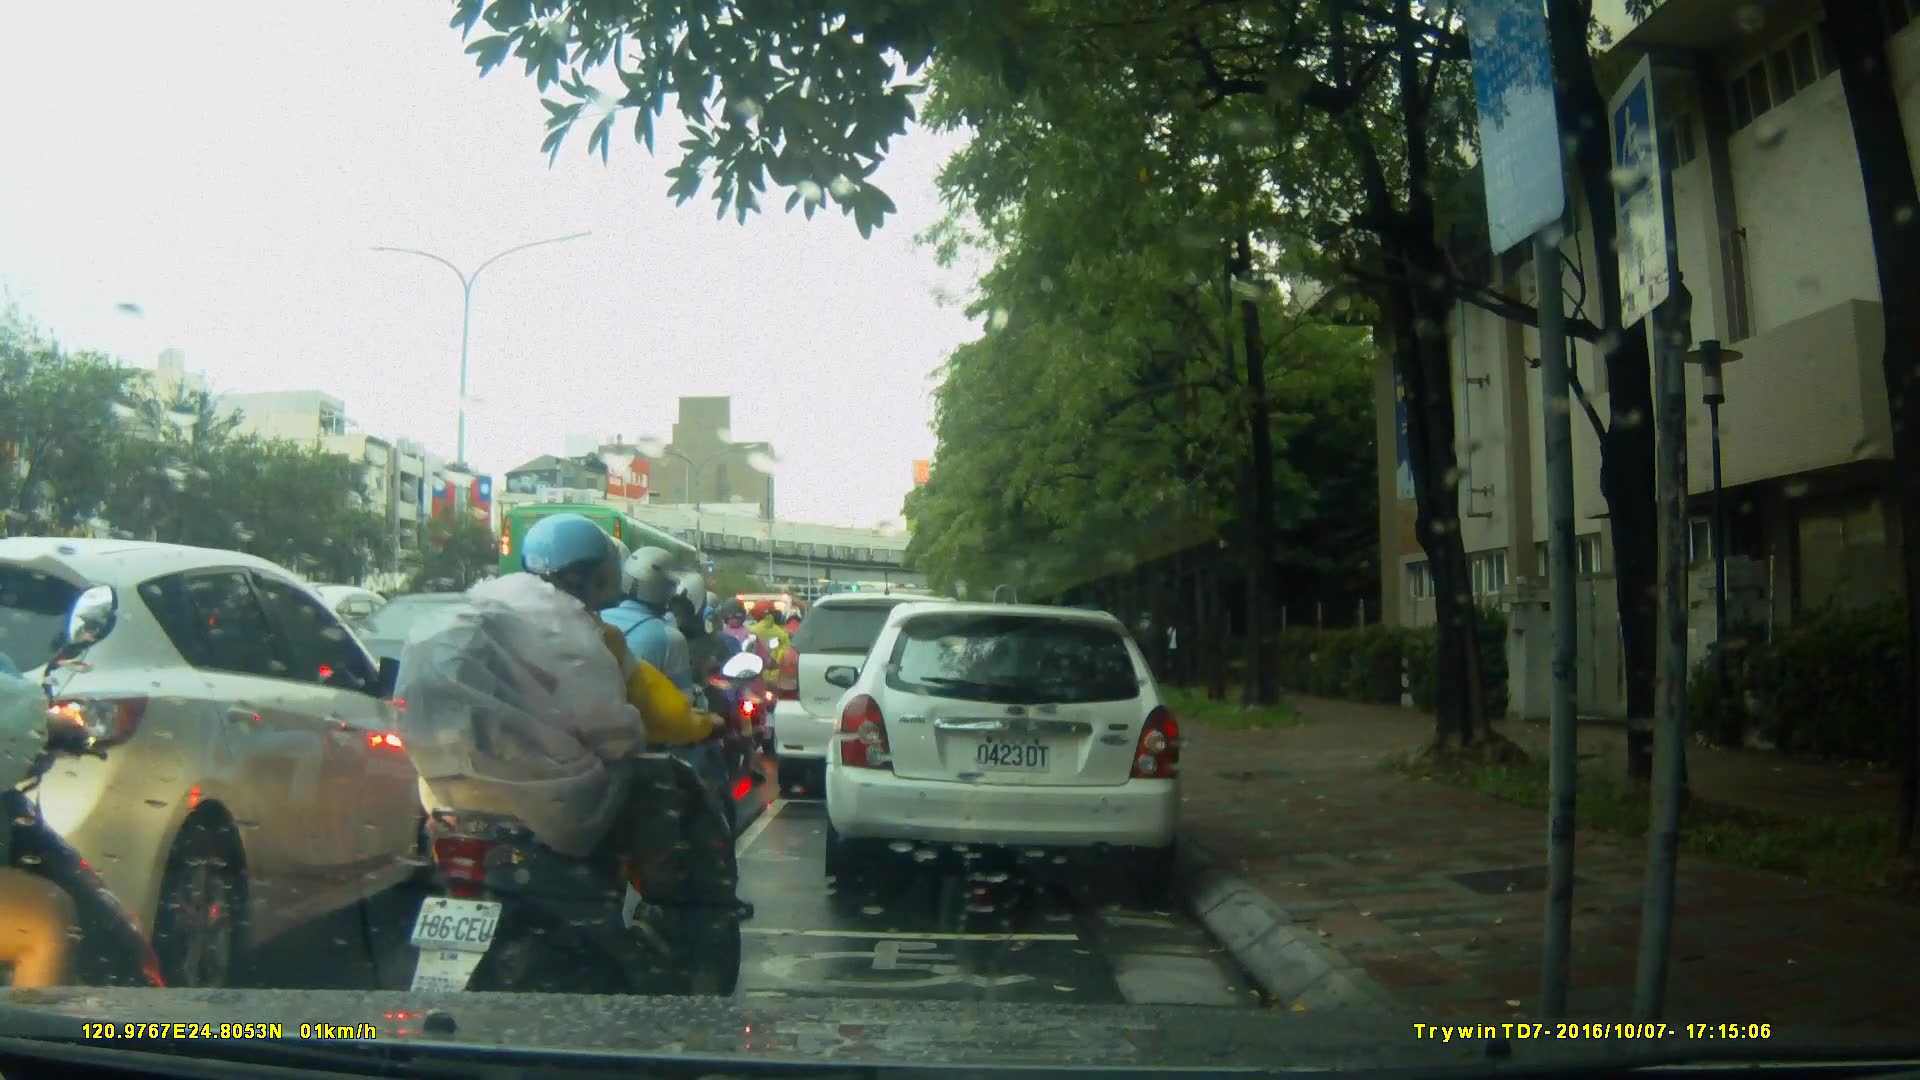rider: (398, 513, 769, 1056), (1, 410, 178, 1080), (549, 535, 755, 921), (621, 562, 724, 821), (688, 585, 767, 787), (707, 598, 779, 764), (749, 598, 797, 737)
vehicle: (2, 536, 455, 987), (831, 592, 1196, 897), (312, 590, 629, 776), (775, 590, 999, 803), (499, 501, 712, 636)
